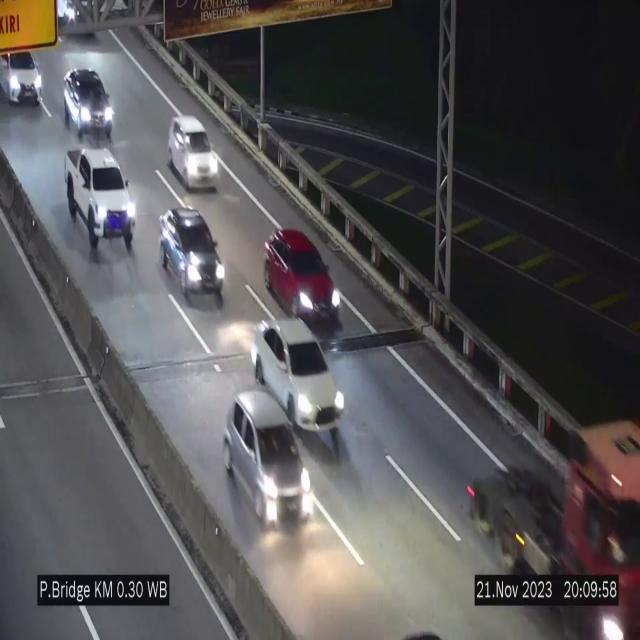Car: (228, 393, 316, 531), (252, 320, 344, 429), (65, 146, 135, 255), (264, 228, 337, 322), (159, 207, 224, 306), (0, 35, 60, 113), (61, 62, 116, 142), (168, 116, 218, 190)
Truck: (463, 414, 640, 640)
